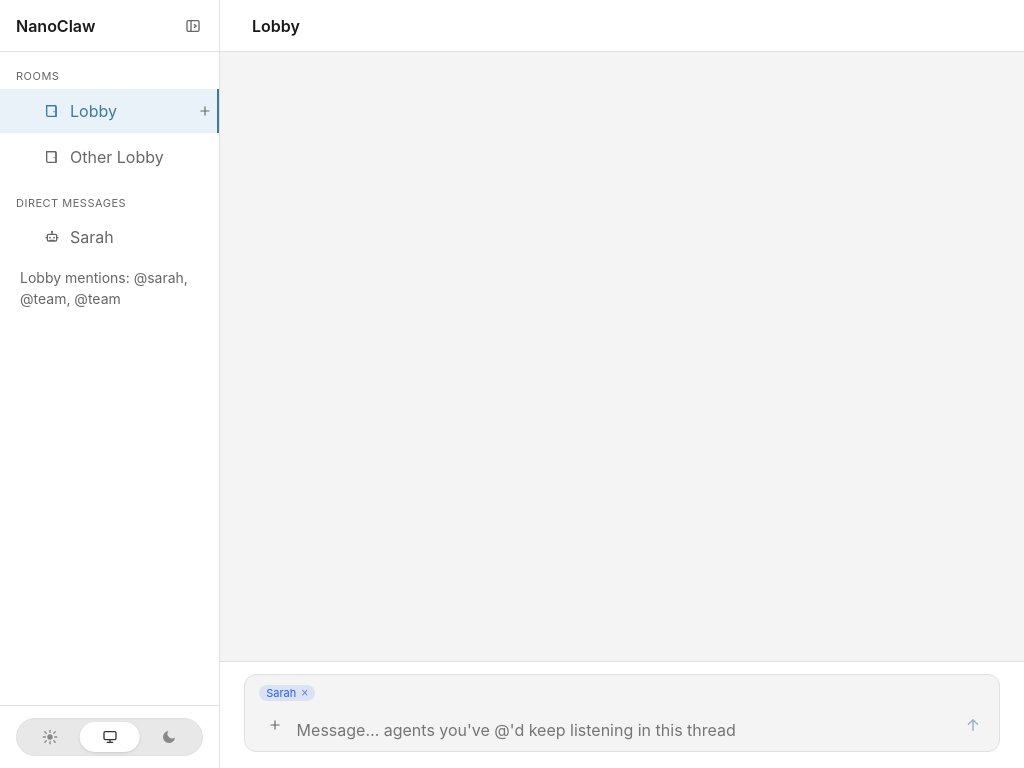
Scenario: App › merges new mentions into existing engaged state on send
Expected: the button named "Stop Sarah from listening" is shown, [298,686,312,700]
Type "@team join us" into the text box at [624, 730], box [297,719,951,741]
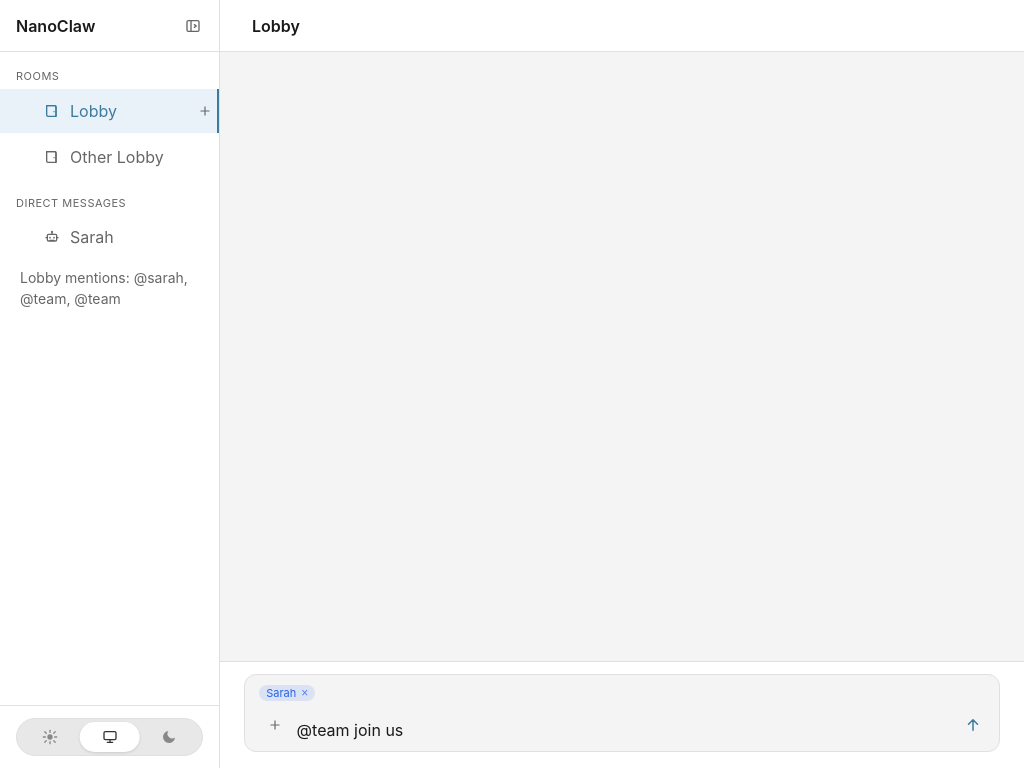
Click the button named "Send message" at [973, 725], box [957,709,989,741]
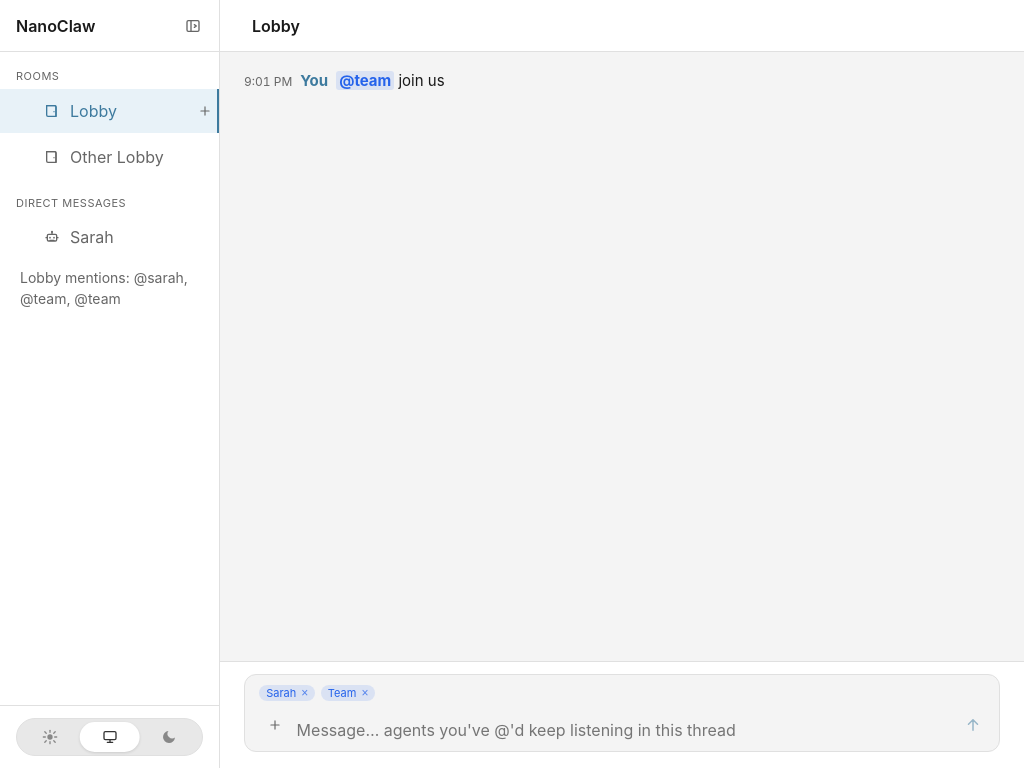
Expected: the button named "Stop Team from listening" is shown, [358,686,372,700]
